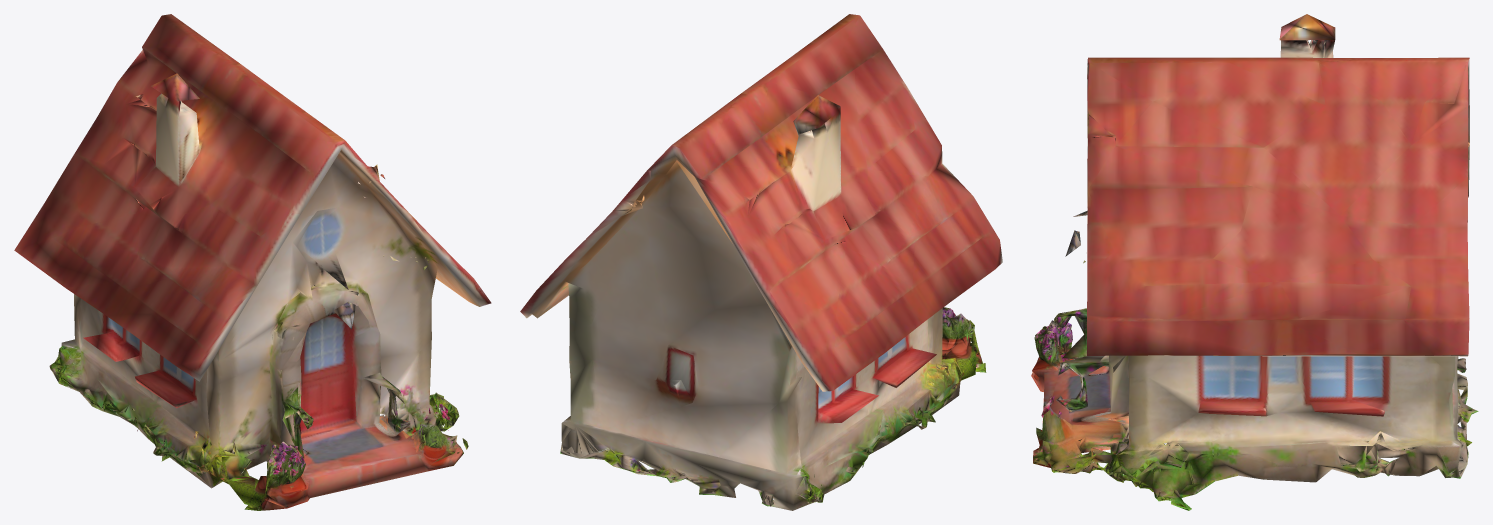
The model's file is casa_cemento.glb.
The picture shows the model from 3 angles, left to right: view 1: azimuth 30°, elevation 25°; view 2: azimuth 150°, elevation 25°; view 3: azimuth 270°, elevation 25°; orthographic projection. The views are drawn at different scales.
Bounding box in the file's own units: 1.68 × 1.89 × 1.97.
1 material, 1 textured.
